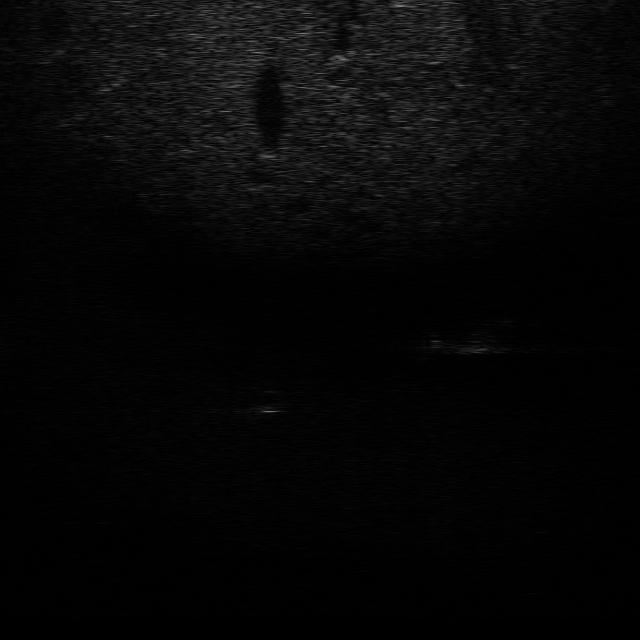ball: (246, 387, 294, 415)
human body: (412, 316, 522, 365)
